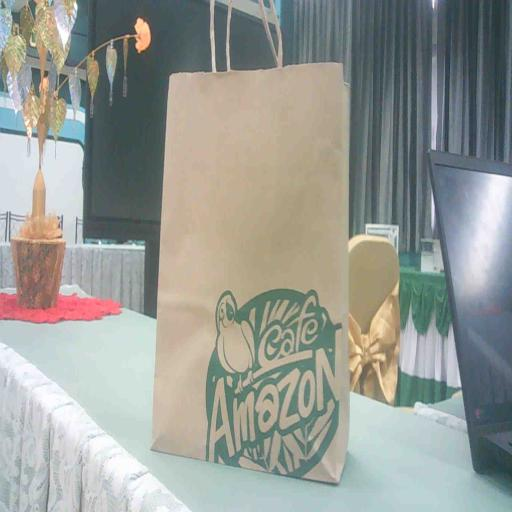bag: (149, 57, 357, 490)
